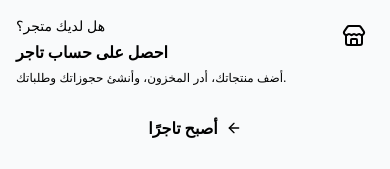
MerchantUpgradeCard › becomes a merchant once and shows a loading state
The image size is (390, 169).
Later steps or results of the test are not shown.
Click the button "أصبح تاجرًا" at (195, 128), box [16,104,374,152]
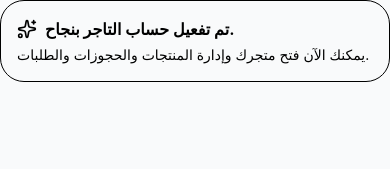
Expected: the heading "تم تفعيل حساب التاجر بنجاح." is shown, [45,17,234,41]
